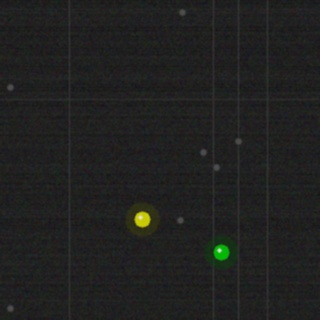green_normal: (211, 242, 231, 262)
yellow_warning: (132, 209, 152, 229)
